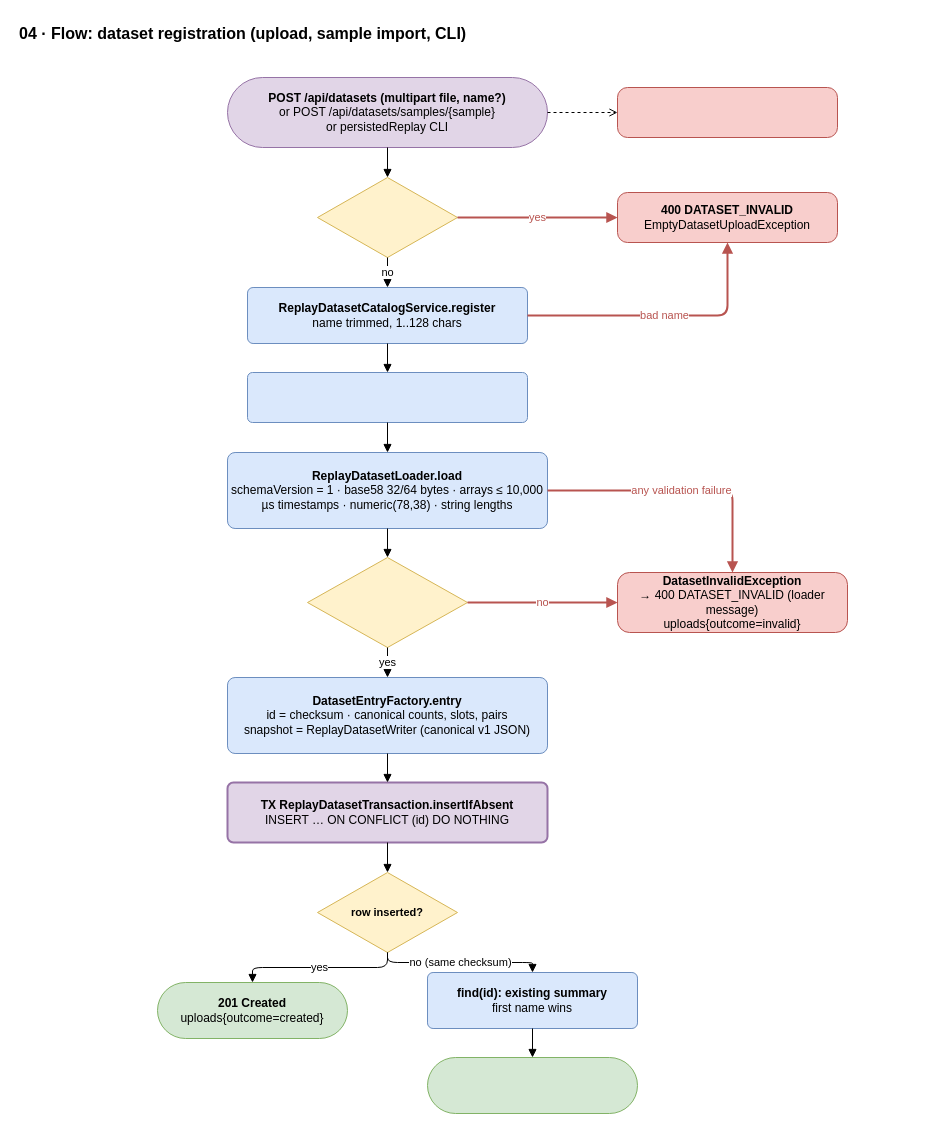
This 934x1131 diagram has some shape labels left out. Here are the shapes that lost their labels. From the top down, the centre of each, then its label:
[727,112]: over 20 MB → 413 UPLOAD_TOO_LARGE (lazy multipart, ConsoleExceptionHandler)
[387,217]: file empty?
[387,397]: Strict UTF-8 decode, reject NUL bytes
[387,602]: checksum = DatasetFingerprint?
[532,1085]: 200 OK uploads{outcome=existing}
